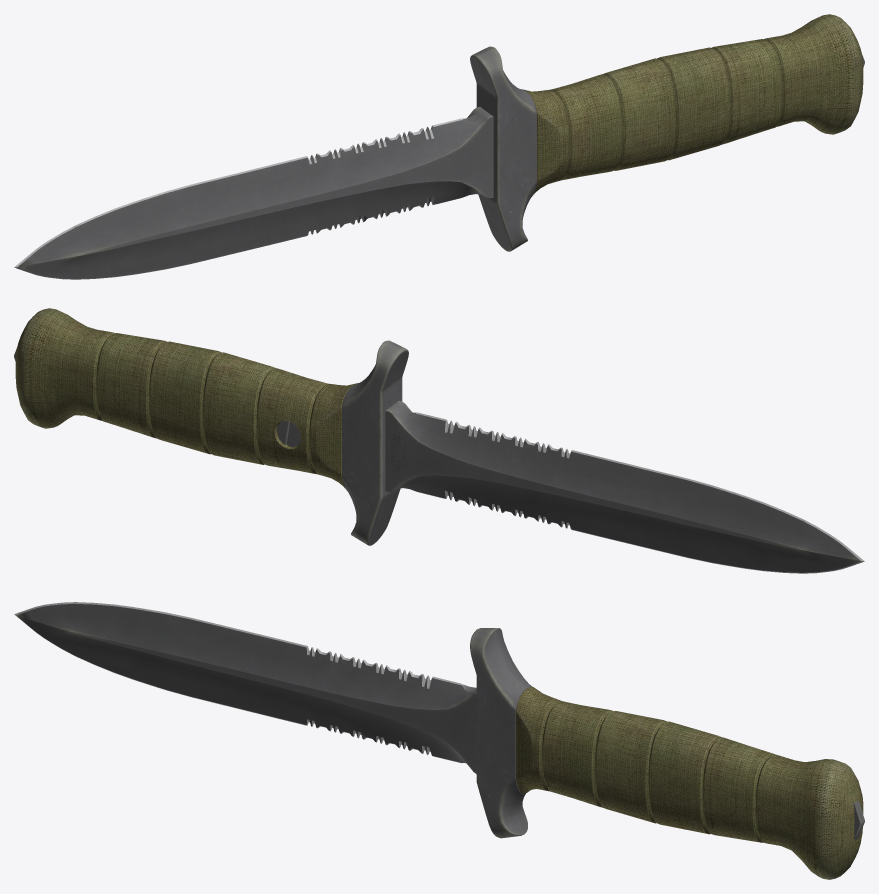
File: knife_ct.glb
The picture shows the model from 3 angles, top to bottom: view 1: azimuth 30°, elevation 25°; view 2: azimuth 150°, elevation 25°; view 3: azimuth 330°, elevation 25°; orthographic projection.
Visible parts, largest first — view 1: weapon_knife_default_ct__0; view 2: weapon_knife_default_ct__0; view 3: weapon_knife_default_ct__0.
Part boxes in pixels (<box>): weapon_knife_default_ct__0: <box>14,14,864,279</box>; weapon_knife_default_ct__0: <box>14,308,864,573</box>; weapon_knife_default_ct__0: <box>14,602,864,879</box>.
Size of the model in its own units: 0.3856 by 0.089 by 0.0276.
1 material, 1 textured.
